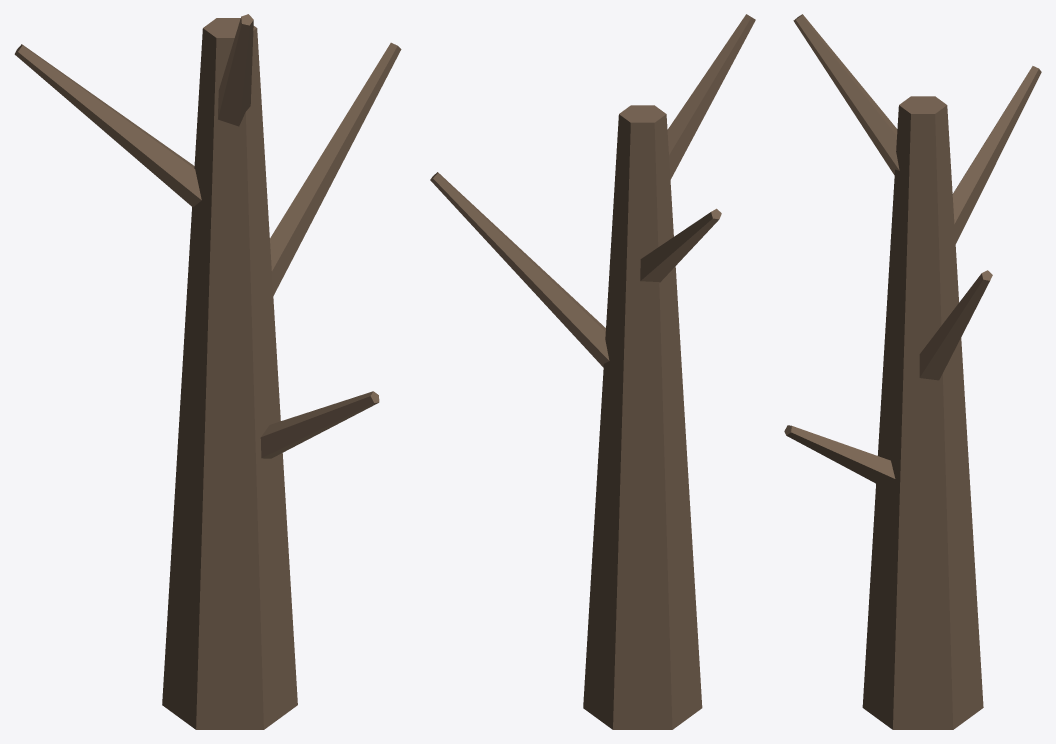
Rendered from nature2_dead_tree.glb.
3 views of the same model, side by side, from view 1: azimuth 30°, elevation 25°; view 2: azimuth 150°, elevation 25°; view 3: azimuth 270°, elevation 25° (orthographic). The views are drawn at different scales.
Visible parts, largest first — view 1: dead_tree; view 2: dead_tree; view 3: dead_tree.
Part boxes in pixels (bbox=[...]): dead_tree: bbox=[14, 14, 401, 729]; dead_tree: bbox=[430, 14, 755, 729]; dead_tree: bbox=[784, 14, 1041, 729].
Bounding box in the file's own units: 1.21 × 2.45 × 0.8516.
